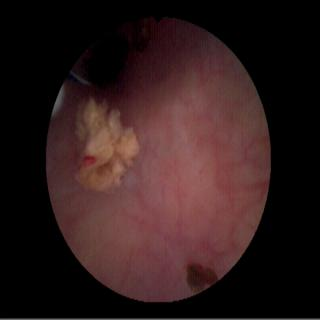stone: (76, 98, 139, 191)
tissue: (49, 21, 265, 295)
